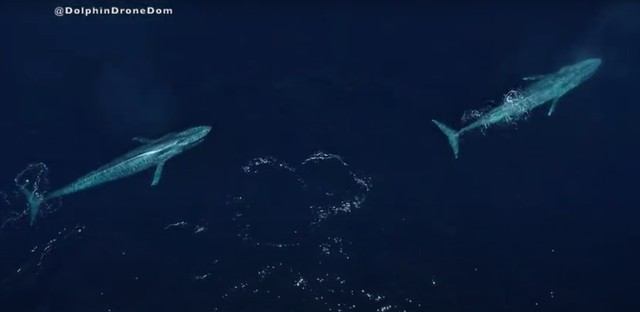whale: (17, 121, 217, 225), (426, 53, 608, 164)
